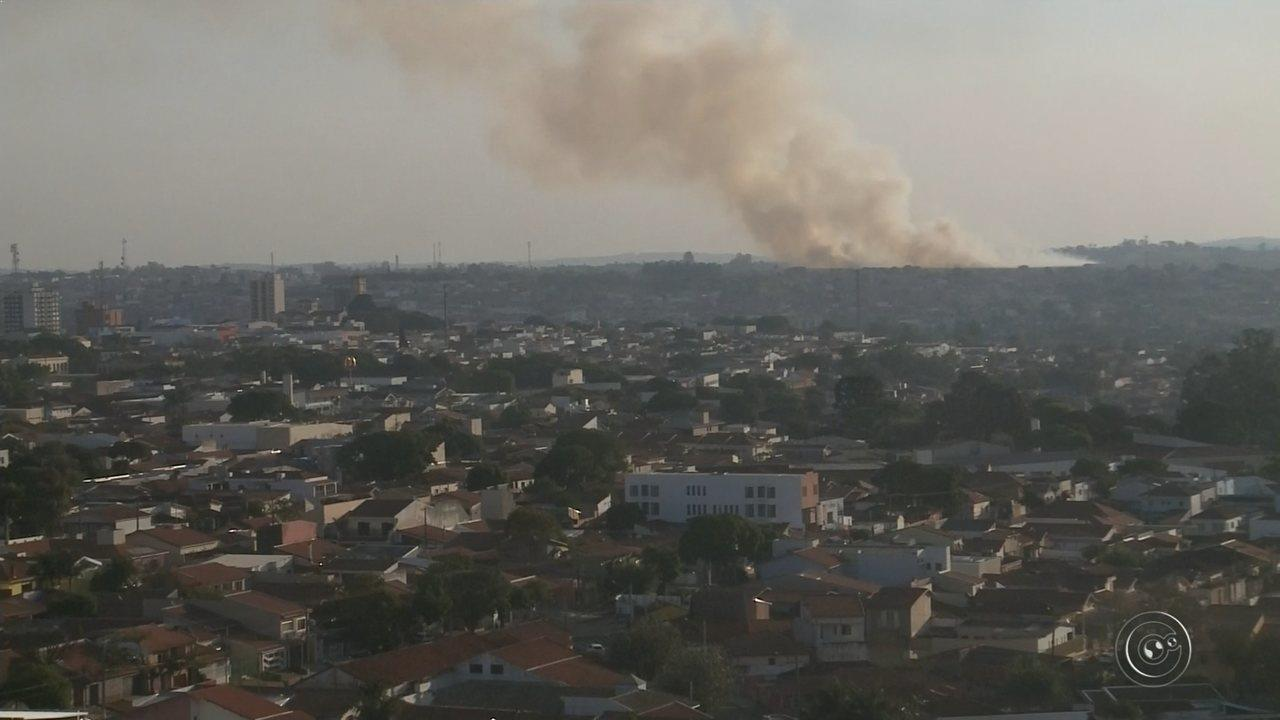smoke: (602, 44, 754, 148)
